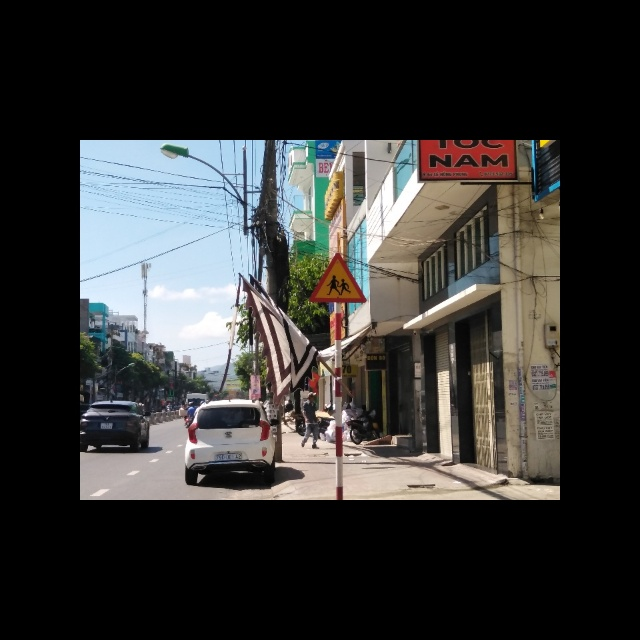Trẻ em ngang qua: (306, 250, 369, 304)
